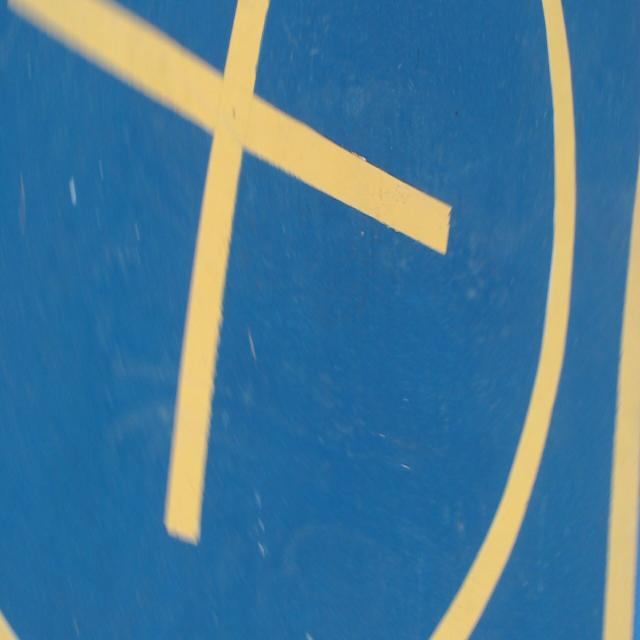base_pouso: (0, 2, 640, 639)
